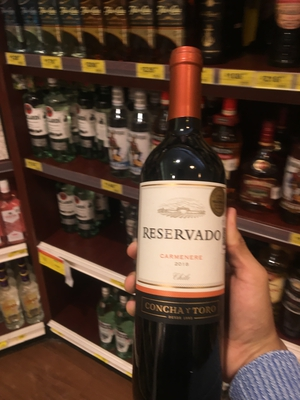reservado carmenere: (125, 48, 222, 400)
